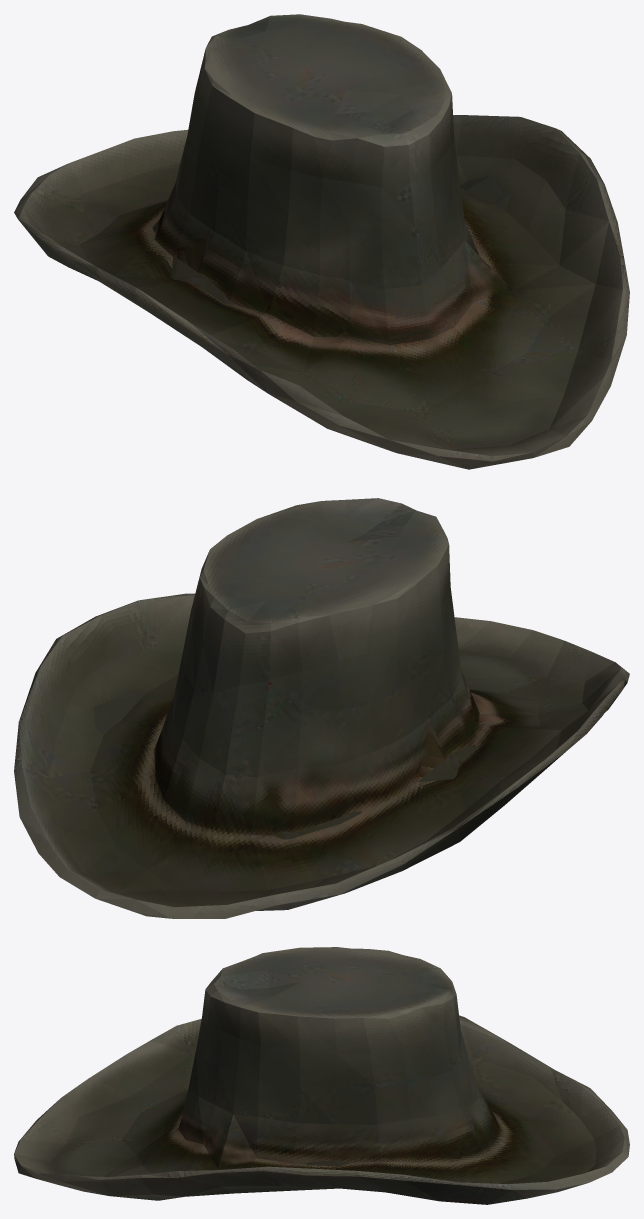
File: ewm_t2cowboy_hat.glb
3 renders of one model, top to bottom at view 1: azimuth 30°, elevation 25°; view 2: azimuth 150°, elevation 25°; view 3: azimuth 270°, elevation 25°, orthographic. The views are drawn at different scales.
Visible parts, largest first — view 1: ewm_t2cowboy_hat; view 2: ewm_t2cowboy_hat; view 3: ewm_t2cowboy_hat.
Part boxes in pixels (x1,y1,x2,y2): ewm_t2cowboy_hat: (14,14,629,469); ewm_t2cowboy_hat: (14,498,629,918); ewm_t2cowboy_hat: (14,947,629,1204).
Size of the model in its own units: 0.3555 by 0.1677 by 0.4934.
1 material, 1 textured.
